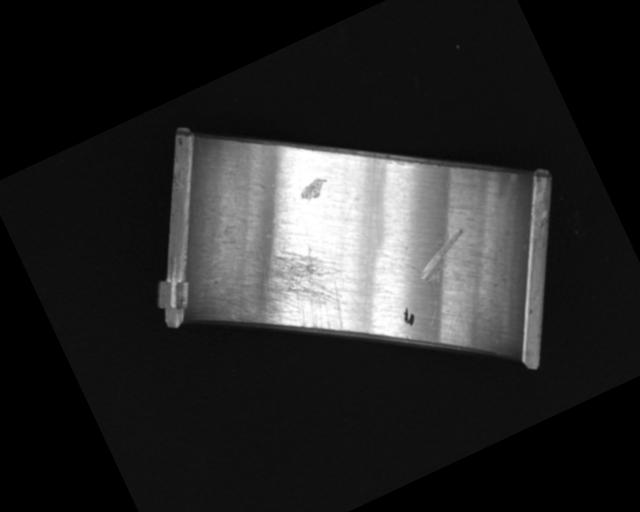blot: (398, 305, 418, 328)
bruise: (295, 174, 332, 205)
nick: (389, 256, 451, 345), (408, 228, 476, 283)
scratch: (217, 224, 366, 369)
